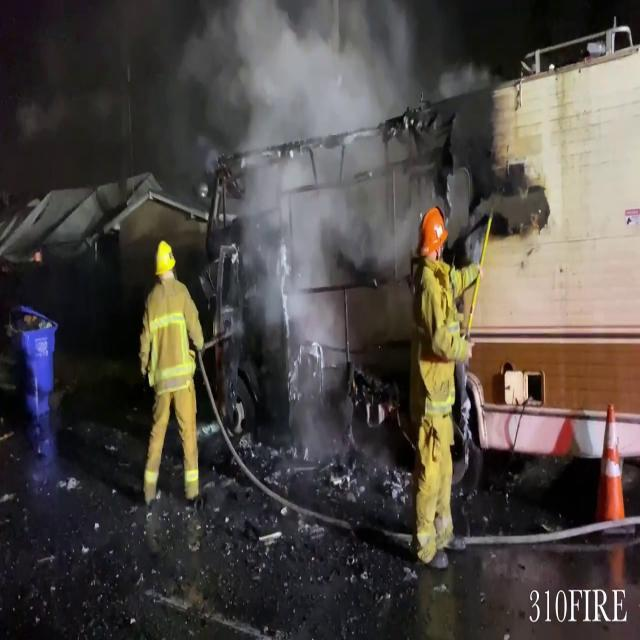Fire: (418, 198, 448, 258)
Smoke: (190, 0, 418, 299)
